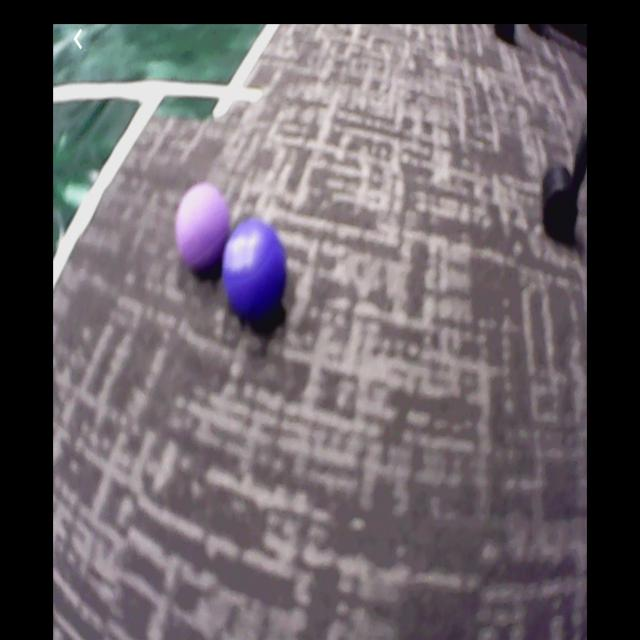ball: (225, 221, 289, 322), (178, 185, 230, 276)
